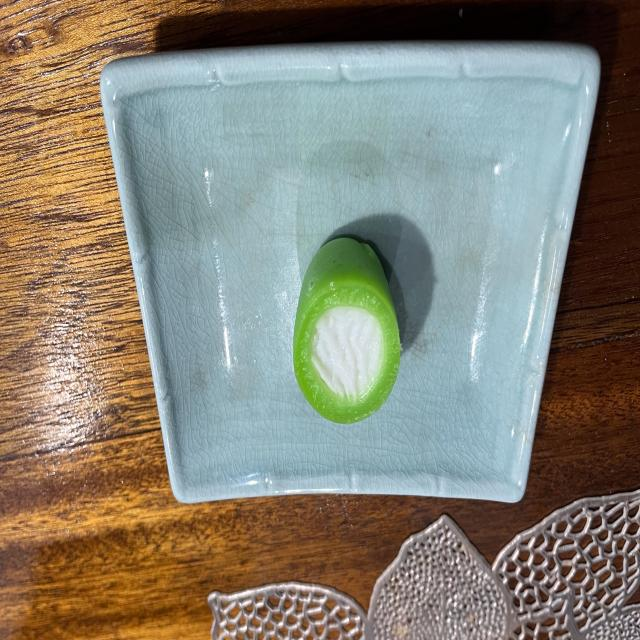nona-manis: (294, 238, 400, 424)
